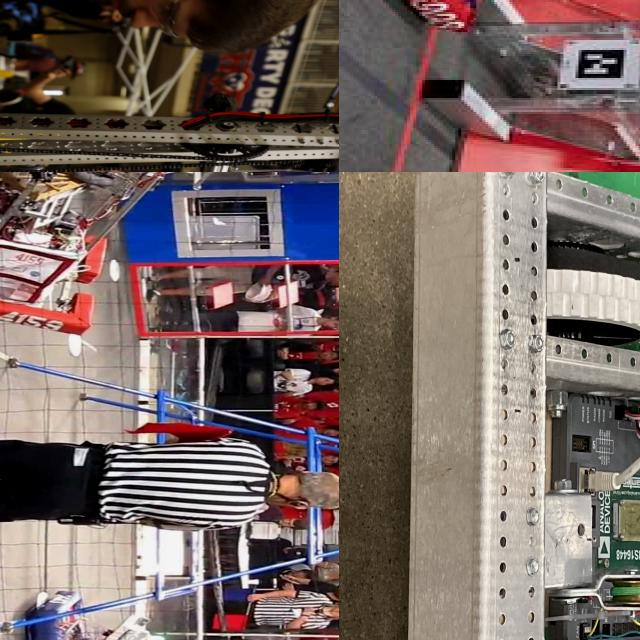FRC-Robots: (0, 29, 339, 172), (0, 172, 200, 339), (339, 0, 640, 53), (20, 590, 240, 640)
